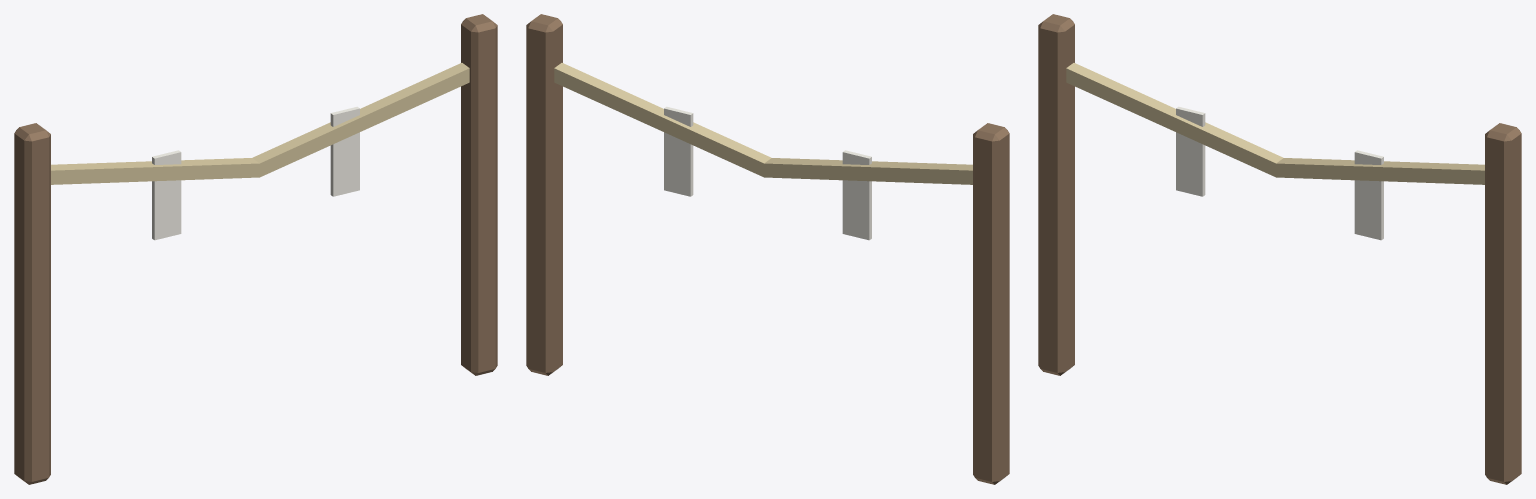
File: feudal-japan-castle-town-sacred-rope-posts-615a7b08__26411.glb
3 views of the same model, side by side, from view 1: azimuth 30°, elevation 25°; view 2: azimuth 150°, elevation 25°; view 3: azimuth 330°, elevation 25° (orthographic).
Parts seen in each view (by area): view 1: sacred-rope-posts; view 2: sacred-rope-posts; view 3: sacred-rope-posts.
Part boxes in pixels (x1,y1,x2,y2): sacred-rope-posts: (14,14,497,484); sacred-rope-posts: (526,14,1009,484); sacred-rope-posts: (1038,14,1521,484).
Bounding box in the file's own units: 2.12 × 1.5 × 0.1201.
